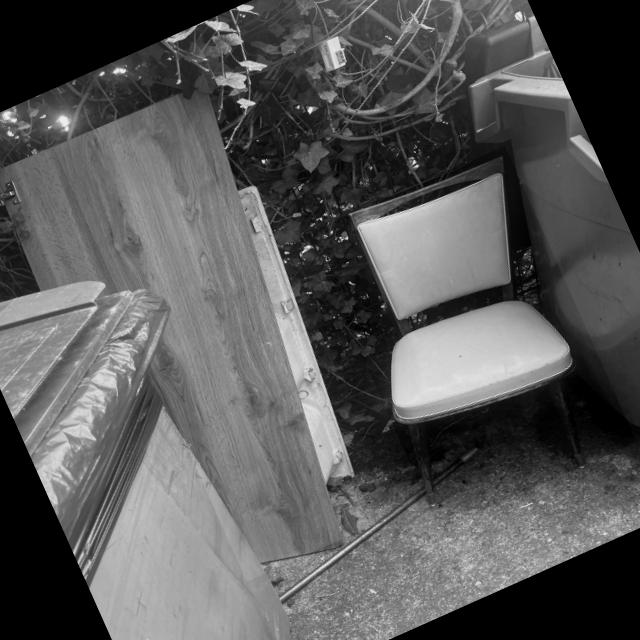Unlabeled litter: (54, 93, 370, 582), (308, 146, 636, 530)
